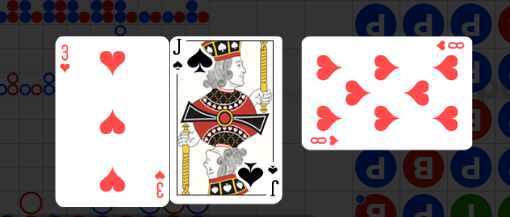3H: (59, 44, 72, 75)
8H: (434, 40, 465, 53), (310, 134, 341, 147)
JS: (171, 38, 215, 85), (238, 159, 282, 205)
